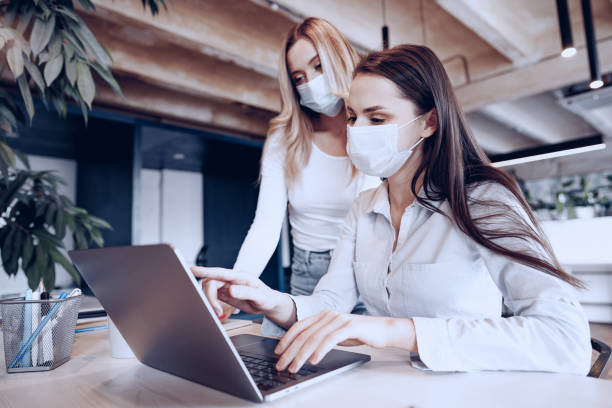with mask: (337, 77, 432, 179), (266, 27, 354, 122)
